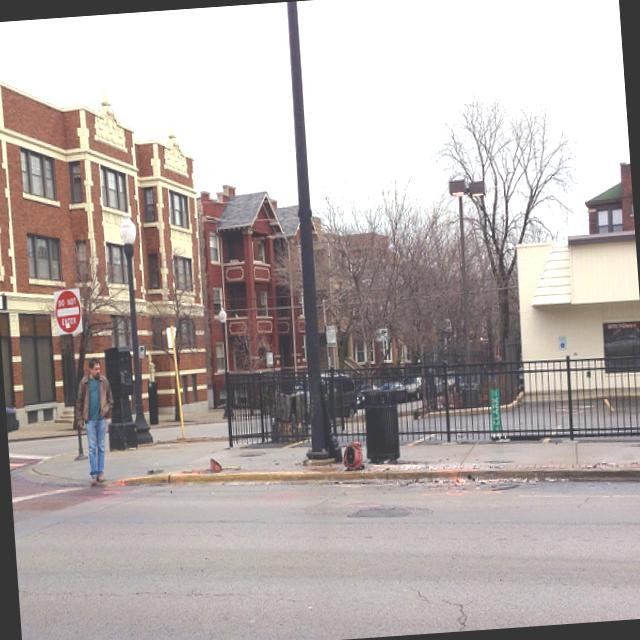Vehicle: (415, 344, 496, 415), (320, 374, 360, 421), (378, 379, 408, 406), (401, 374, 426, 402), (6, 402, 20, 442)
